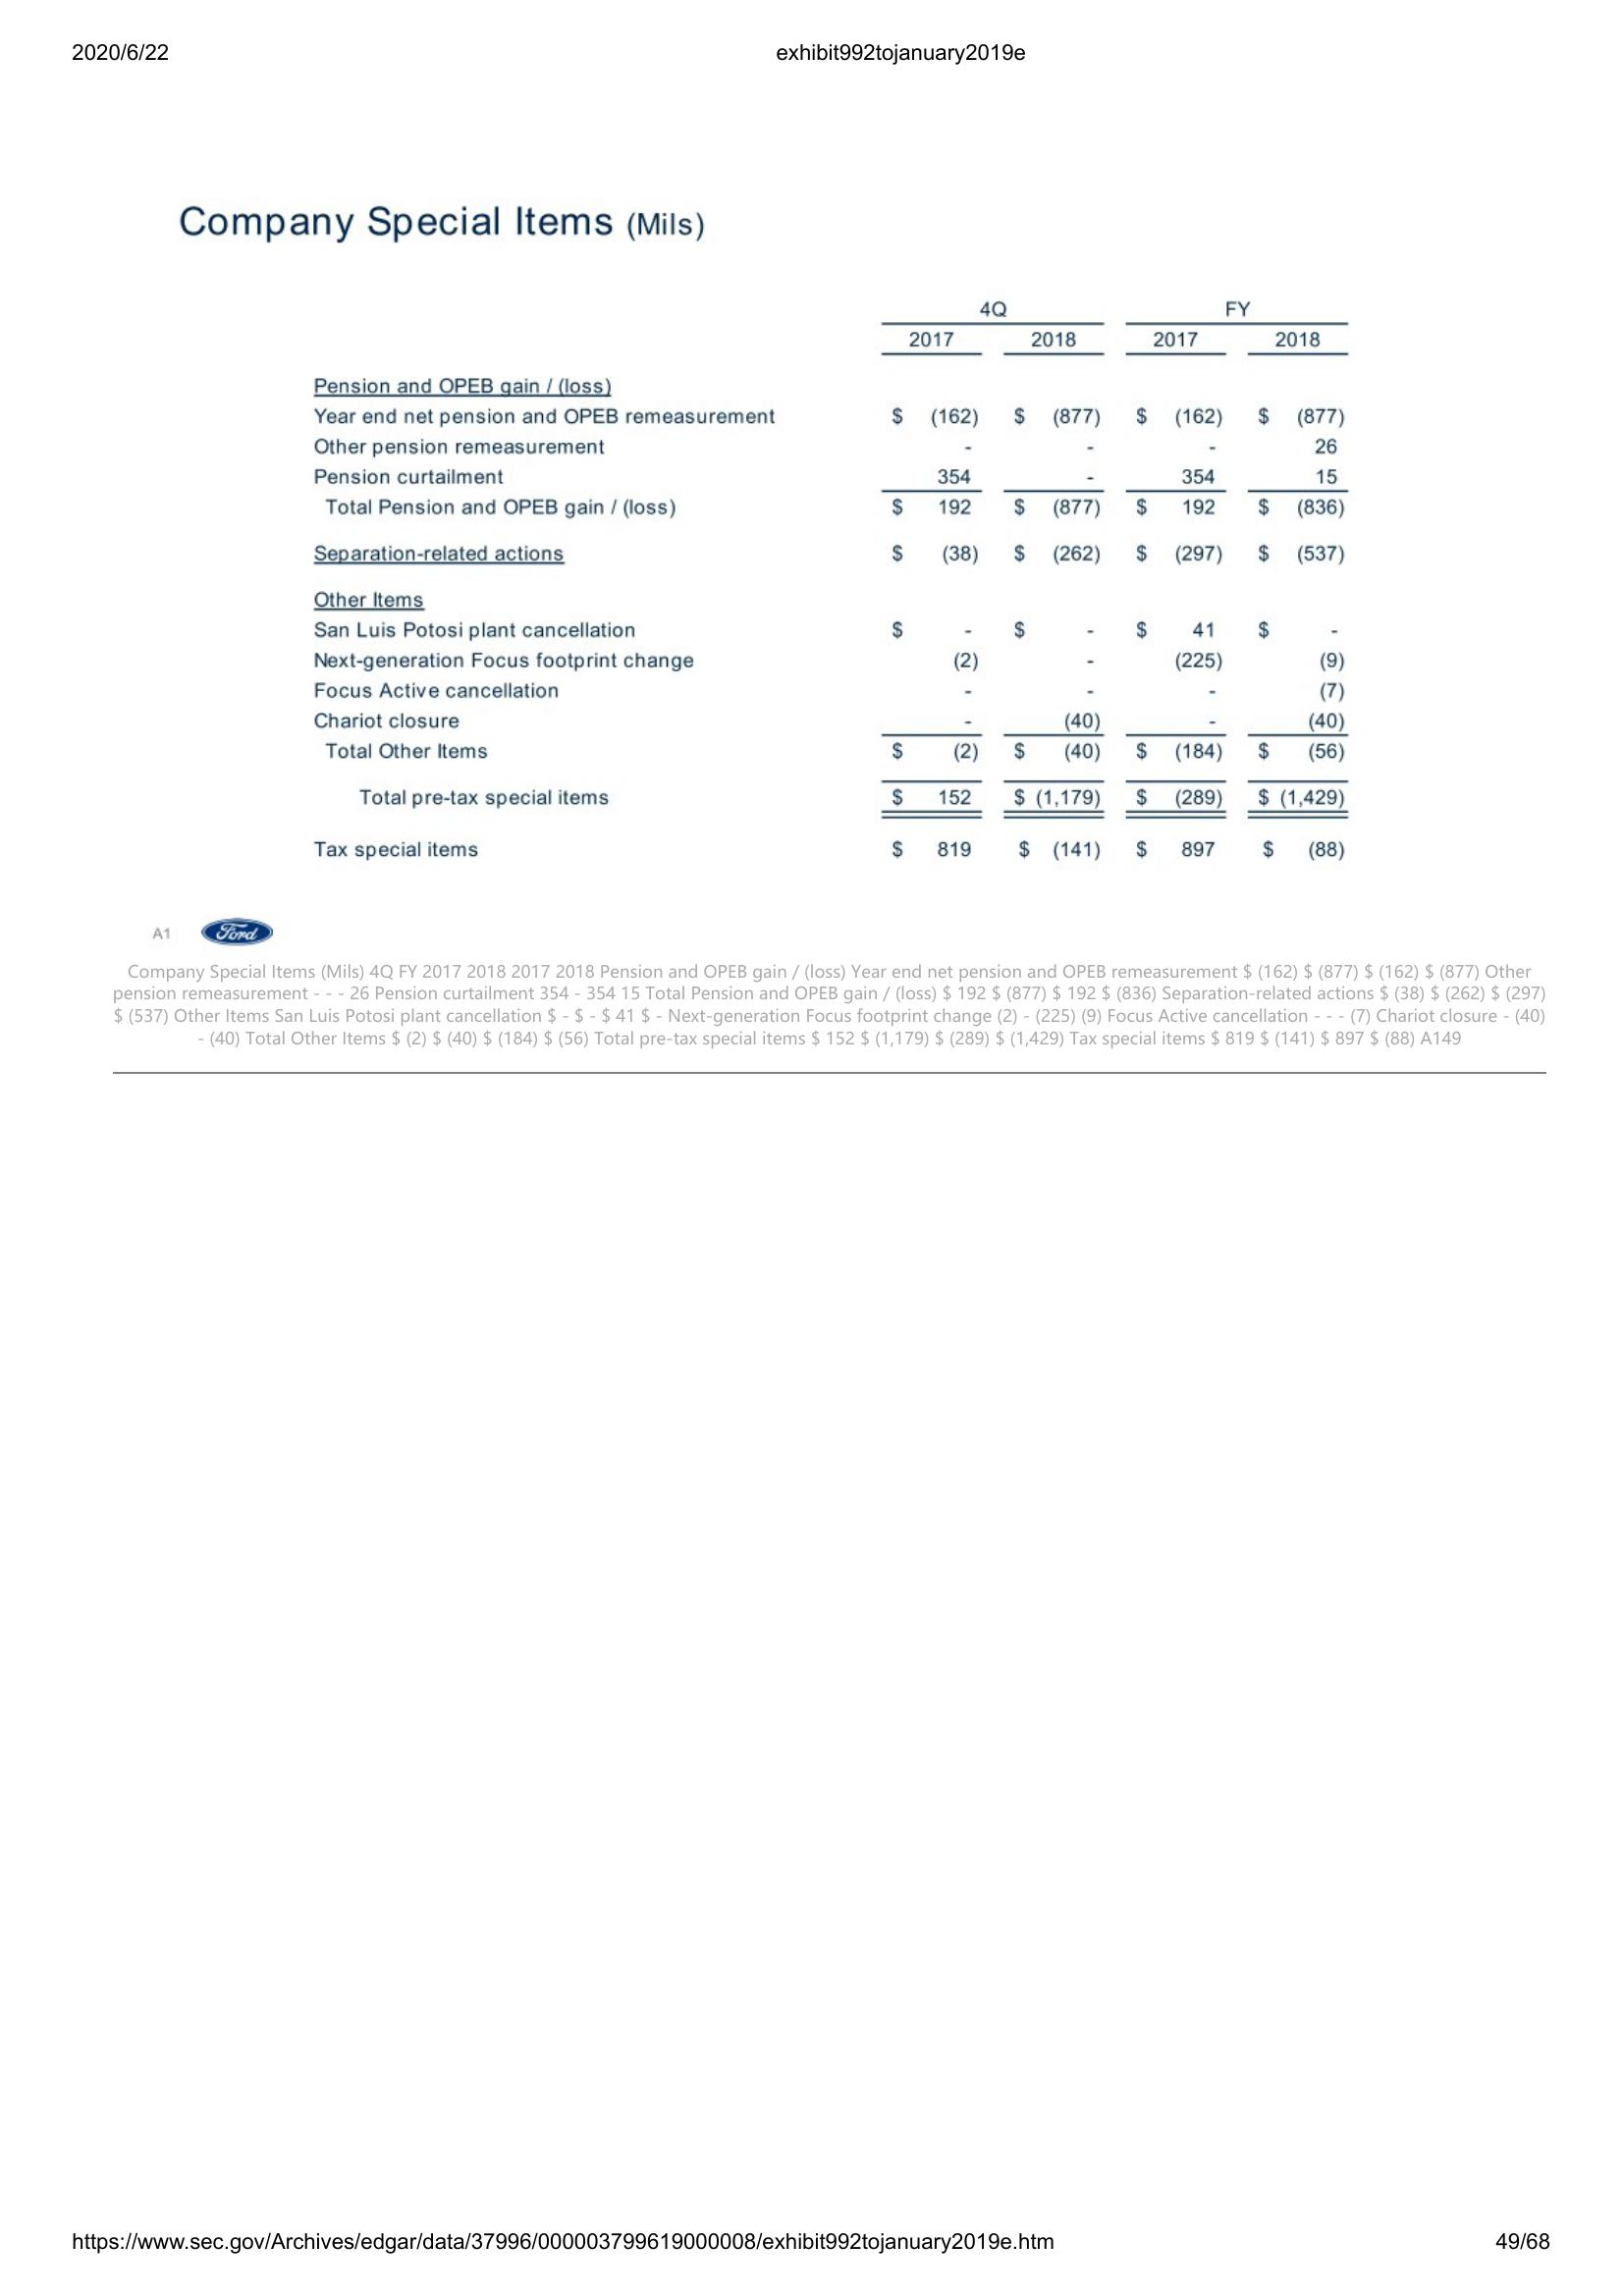table: (309, 295, 1351, 872)
